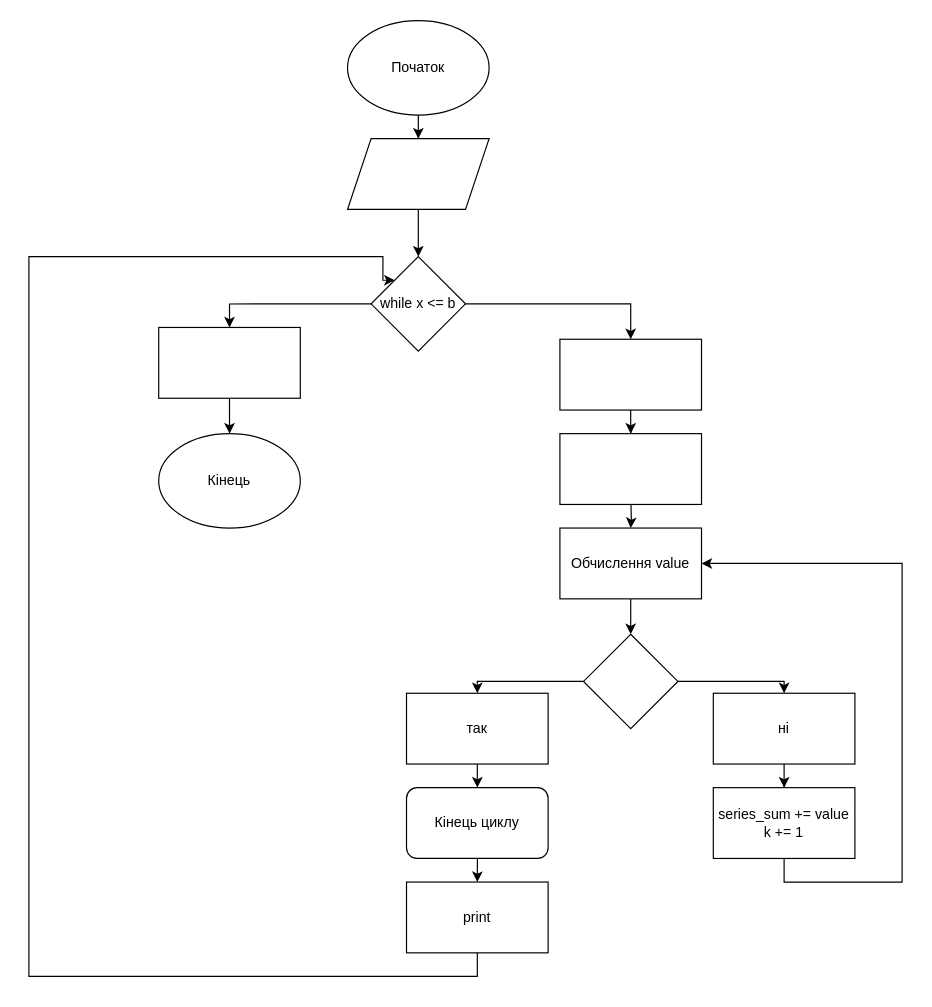
This 932x1007 diagram has some shape labels left out. Each missing label, with the centre of its shape:
"abs(value) <= tolerance" goes at point 630,681.
"while True" goes at point 630,468.
"x <= b" goes at point 630,374.
"x > b" goes at point 229,362.
"оголошення змінних" goes at point 417,173.
